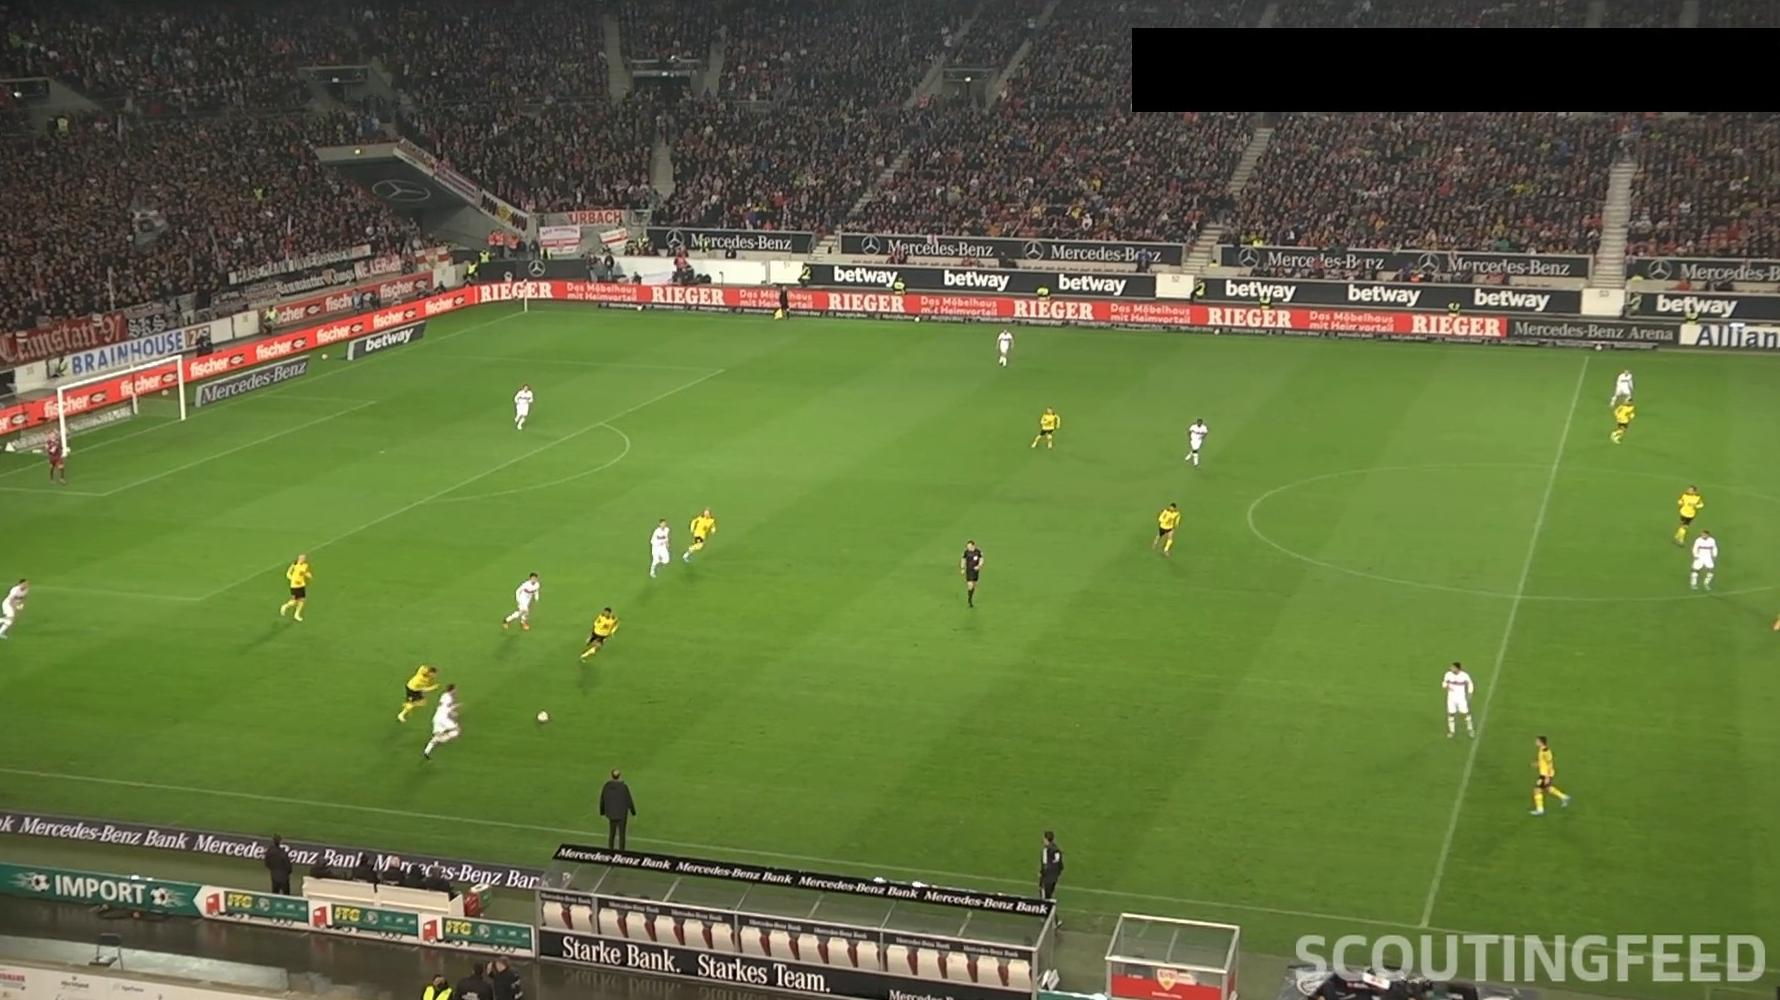ball: (537, 708, 550, 724)
